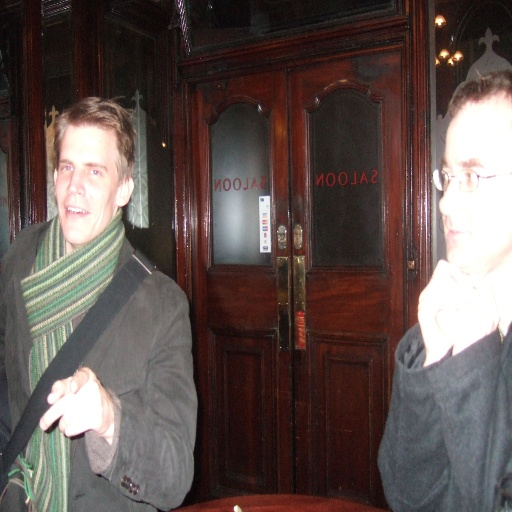hand: (38, 365, 111, 438), (435, 275, 500, 353), (416, 259, 463, 354)
